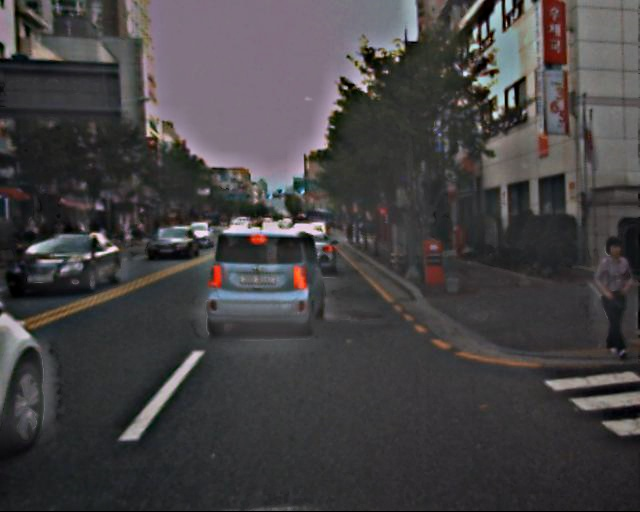person: (581, 236, 638, 361)
